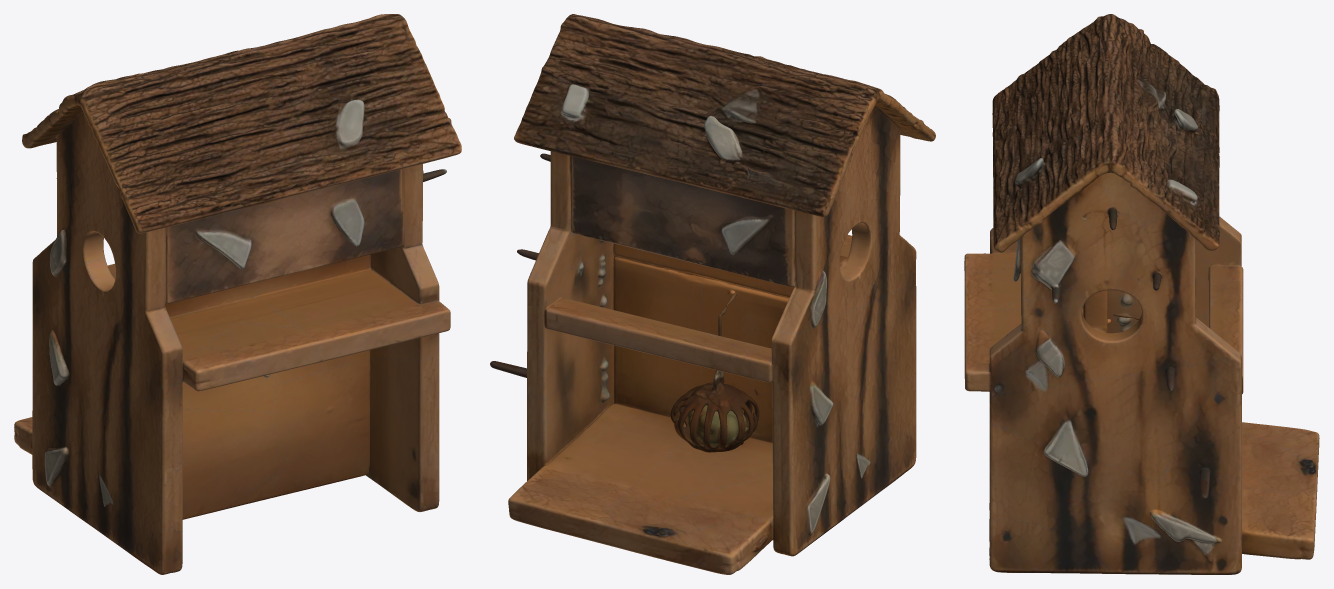
Rendered from toxoc-1.glb.
The picture shows the model from 3 angles, left to right: view 1: azimuth 30°, elevation 25°; view 2: azimuth 150°, elevation 25°; view 3: azimuth 270°, elevation 25°; orthographic projection. The views are drawn at different scales.
Parts seen in each view (by area): view 1: tripo_node_7e8d1ae8-d821-4140-829f-e7102e6f8b55; view 2: tripo_node_7e8d1ae8-d821-4140-829f-e7102e6f8b55; view 3: tripo_node_7e8d1ae8-d821-4140-829f-e7102e6f8b55.
Part boxes in pixels (left/top/right/bottom): tripo_node_7e8d1ae8-d821-4140-829f-e7102e6f8b55: left=14, top=14, right=461, bottom=574; tripo_node_7e8d1ae8-d821-4140-829f-e7102e6f8b55: left=490, top=14, right=935, bottom=574; tripo_node_7e8d1ae8-d821-4140-829f-e7102e6f8b55: left=964, top=14, right=1319, bottom=574.
Size of the model in its own units: 0.8311 by 1 by 0.7512.
1 material, 1 textured.
